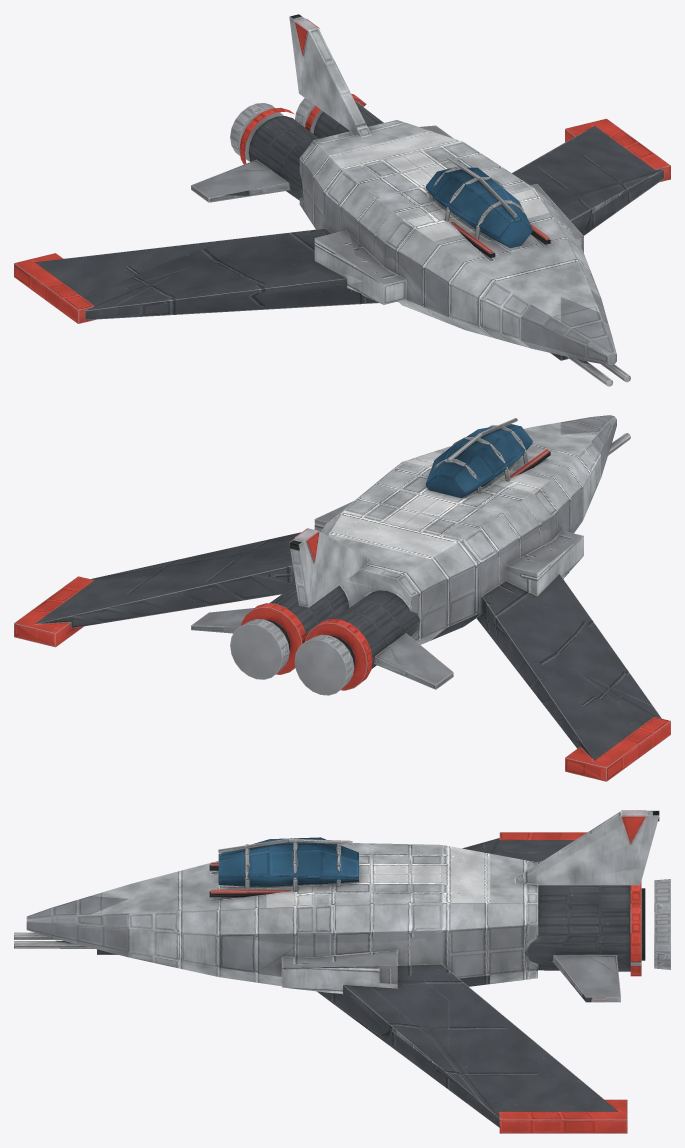
File: sd_ship_sahin_m.glb
The picture shows the model from 3 angles, top to bottom: view 1: azimuth 30°, elevation 25°; view 2: azimuth 150°, elevation 25°; view 3: azimuth 270°, elevation 25°; orthographic projection.
Parts seen in each view (by area): view 1: LOD0_body, LOD1_body; view 2: LOD0_body, LOD1_body; view 3: LOD0_body, LOD1_body.
Part boxes in pixels (bbox=[...]): LOD0_body: bbox=[14, 14, 670, 386]; LOD1_body: bbox=[74, 15, 668, 368]; LOD0_body: bbox=[14, 415, 670, 781]; LOD1_body: bbox=[30, 419, 660, 760]; LOD0_body: bbox=[14, 810, 670, 1133]; LOD1_body: bbox=[52, 811, 659, 1117].
Bounding box in the file's own units: 1.04 × 0.2967 × 1.
Materials: 1 (1 with a texture image).
